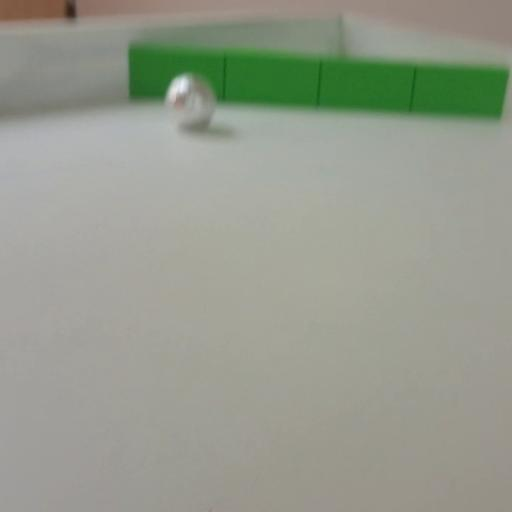alive: (164, 74, 216, 130)
